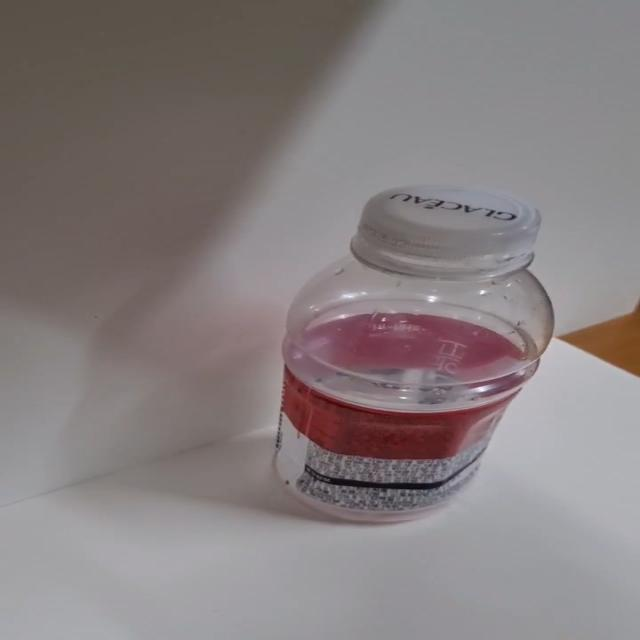Plastic: (271, 184, 556, 528)
